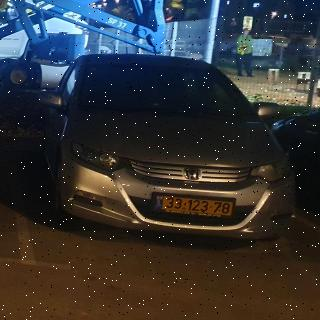LicensePlate: (163, 196, 233, 216)
